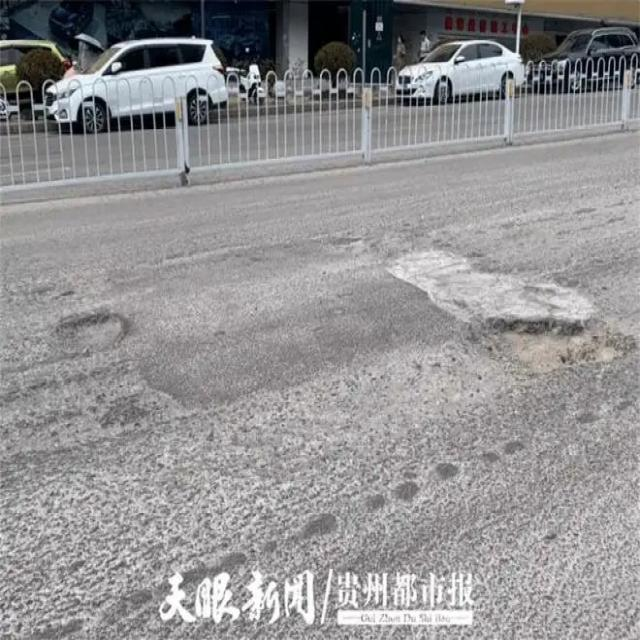Pothole: (484, 312, 626, 376), (53, 312, 128, 361)
